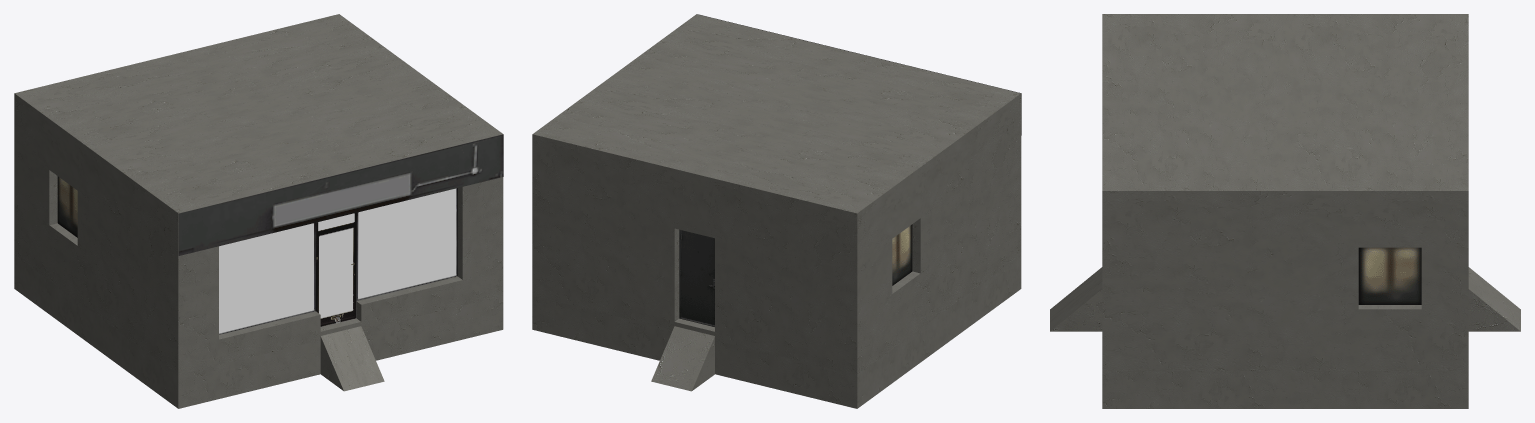
File: small_house_3.fbx
The picture shows the model from 3 angles, left to right: view 1: azimuth 30°, elevation 25°; view 2: azimuth 150°, elevation 25°; view 3: azimuth 270°, elevation 25°; orthographic projection. The views are drawn at different scales.
Parts seen in each view (by area): view 1: small_house_3; view 2: small_house_3; view 3: small_house_3.
Boxes of the visible parts, <box> form: small_house_3: <box>14,14,503,408</box>; small_house_3: <box>532,14,1021,408</box>; small_house_3: <box>1050,14,1520,408</box>.
Bounding box in the file's own units: 800 × 460 × 900.
